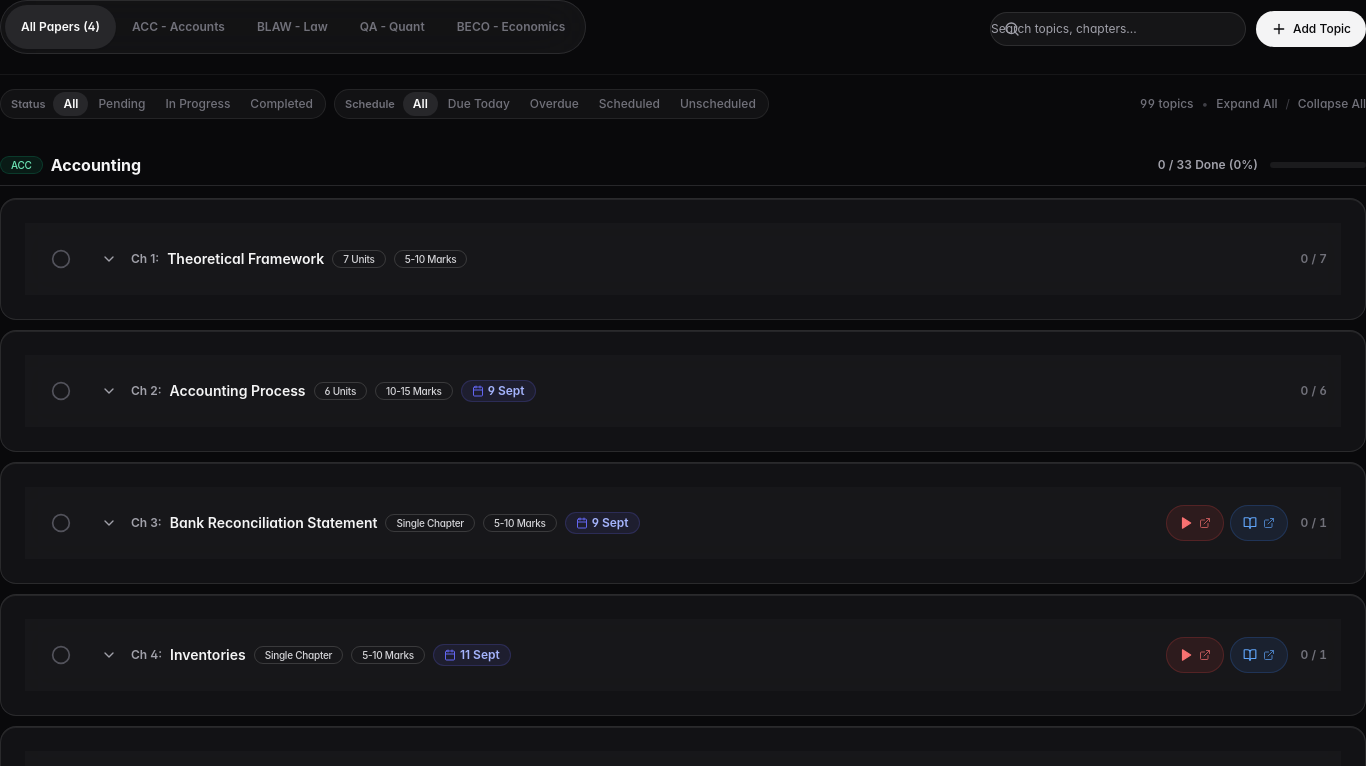
Scenario: Tier 1 - Feature 10: Checklist Search & Multi-Criteria Filtering › filters topics by status (Pending, In Progress, Completed)
Click the button "Completed" at (282, 104), box [240,92,323,116]
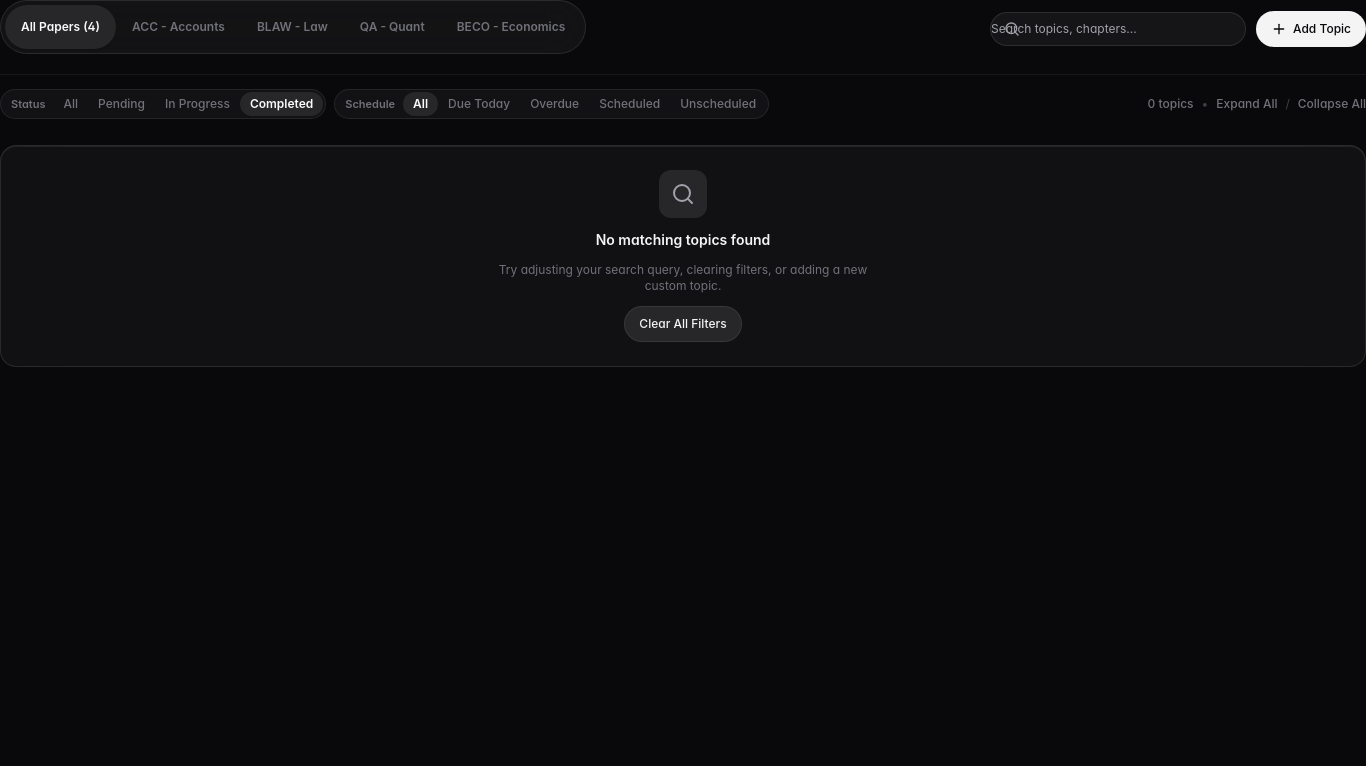
Expected: the heading "No matching topics found" is shown, [596,231,770,248]
